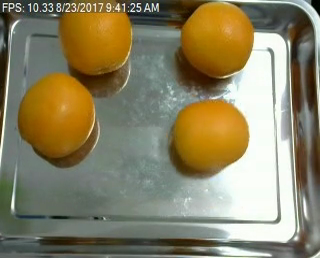Orange: (18, 72, 96, 157), (172, 99, 249, 172), (180, 2, 254, 77), (56, 12, 131, 74)
